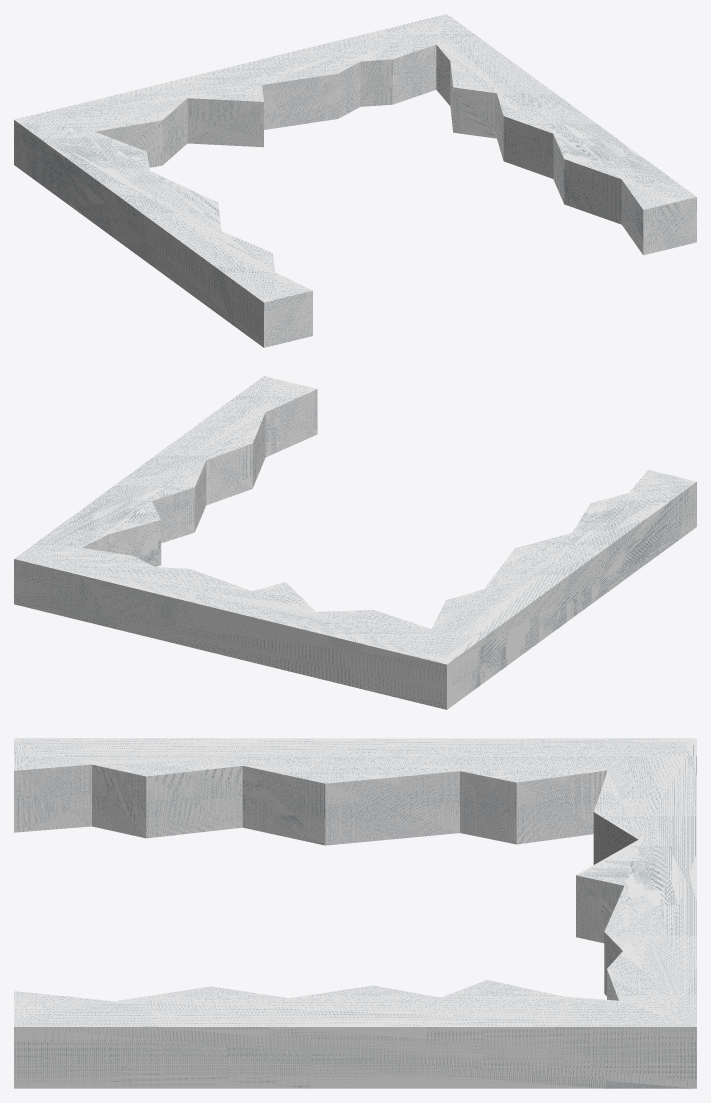
Rendered from brokenWall.fbx.
The picture shows the model from 3 angles, top to bottom: view 1: azimuth 30°, elevation 25°; view 2: azimuth 150°, elevation 25°; view 3: azimuth 270°, elevation 25°; orthographic projection. The views are drawn at different scales.
Visible parts, largest first — view 1: Model; view 2: Model; view 3: Model.
Part boxes in pixels (box(x1,y1,x2,y2)): Model: box(14, 14, 696, 347); Model: box(14, 376, 696, 709); Model: box(14, 738, 696, 1088).
Bounding box in the file's own units: 5 × 0.5 × 5.
